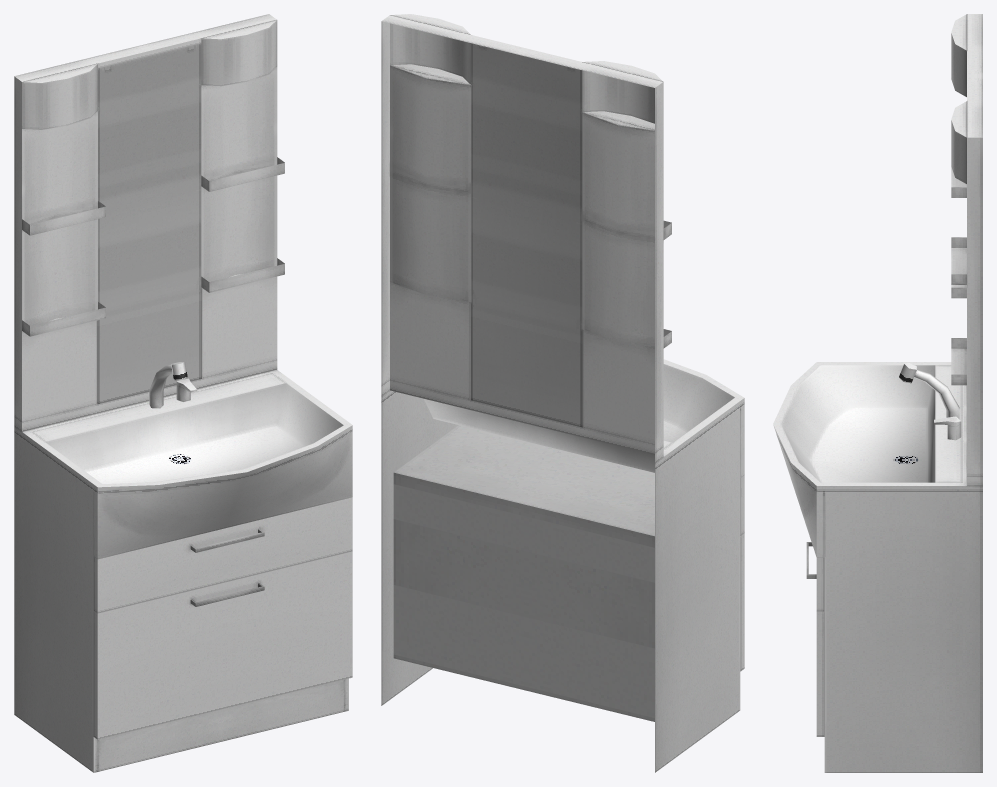
The model's file is BathroomSink.glb.
The picture shows the model from 3 angles, left to right: view 1: azimuth 30°, elevation 25°; view 2: azimuth 150°, elevation 25°; view 3: azimuth 270°, elevation 25°; orthographic projection. The views are drawn at different scales.
Visible parts, largest first — view 1: sink, sink drawer.001, sink drawer; view 2: sink, sink drawer.001, sink drawer; view 3: sink, sink drawer.001, sink drawer.
Boxes of the visible parts, box(x1,y1,x2,y2) form: sink: box(14, 14, 352, 772); sink drawer.001: box(93, 551, 352, 739); sink drawer: box(93, 497, 352, 613); sink: box(381, 14, 744, 772); sink drawer.001: box(393, 533, 744, 717); sink drawer: box(393, 475, 744, 582); sink: box(773, 14, 982, 772); sink drawer.001: box(806, 542, 824, 736); sink drawer: box(816, 557, 824, 611).
Bounding box in the file's own units: 0.74 × 1.77 × 0.53.
Materials: 2 (2 with a texture image).
